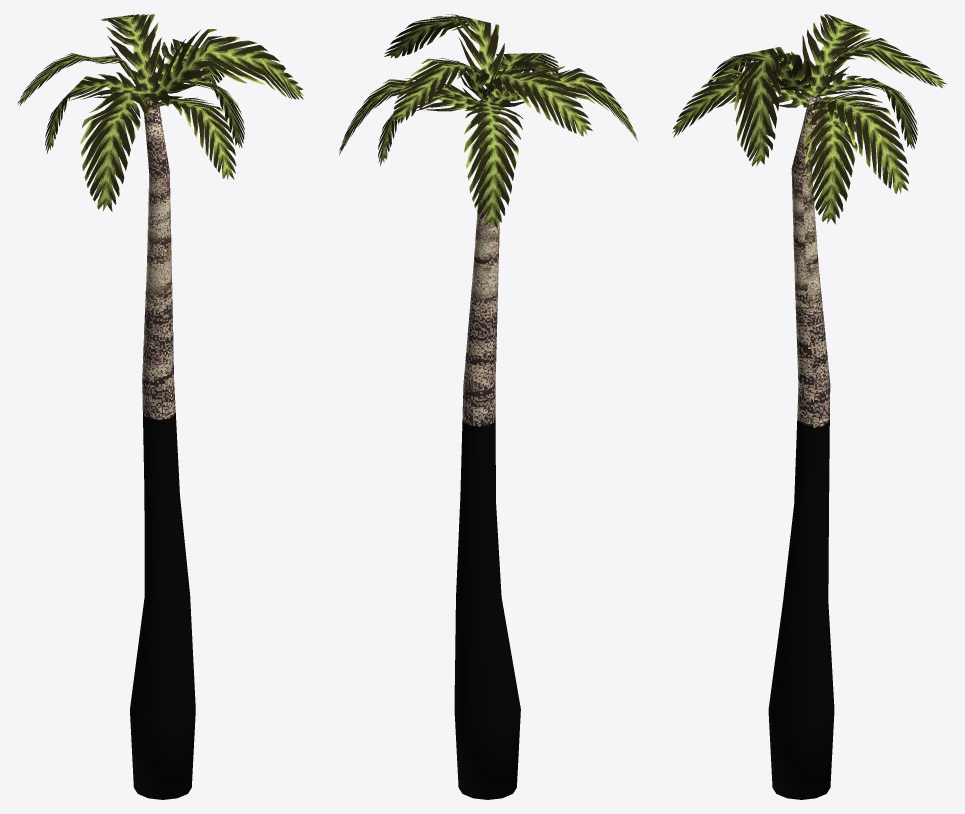
Rendered from Palm_sm.fbx.
3 renders of one model, left to right at view 1: azimuth 30°, elevation 25°; view 2: azimuth 150°, elevation 25°; view 3: azimuth 270°, elevation 25°, orthographic.
Parts seen in each view (by area): view 1: Palm_sm, PalmLeaf.018, PalmLeaf.021, PalmLeaf.019, PalmLeaf.022, PalmLeaf.025, PalmLeaf.024, PalmLeaf.023, PalmLeaf.020; view 2: Palm_sm, PalmLeaf.025, PalmLeaf.018, PalmLeaf.024, PalmLeaf.019, PalmLeaf.021, PalmLeaf.020, PalmLeaf.023, PalmLeaf.022; view 3: Palm_sm, PalmLeaf.018, PalmLeaf.020, PalmLeaf.023, PalmLeaf.024, PalmLeaf.022, PalmLeaf.019, PalmLeaf.025, PalmLeaf.021.
Boxes of the visible parts, x1,y1,x2,y2 form: Palm_sm: (130, 99, 195, 799); PalmLeaf.018: (147, 29, 303, 99); PalmLeaf.021: (80, 91, 162, 211); PalmLeaf.019: (101, 14, 165, 93); PalmLeaf.022: (148, 97, 236, 179); PalmLeaf.025: (45, 72, 145, 154); PalmLeaf.024: (17, 53, 149, 106); PalmLeaf.023: (185, 77, 244, 147); PalmLeaf.020: (153, 39, 226, 84); Palm_sm: (454, 99, 520, 799); PalmLeaf.025: (464, 100, 522, 228); PalmLeaf.018: (384, 14, 507, 97); PalmLeaf.024: (483, 58, 592, 136); PalmLeaf.019: (393, 58, 493, 123); PalmLeaf.021: (491, 59, 637, 141); PalmLeaf.020: (339, 78, 479, 155); PalmLeaf.023: (378, 85, 481, 165); PalmLeaf.022: (481, 53, 558, 110); Palm_sm: (768, 95, 834, 799); PalmLeaf.018: (731, 53, 811, 166); PalmLeaf.020: (813, 89, 908, 193); PalmLeaf.023: (803, 96, 857, 224); PalmLeaf.024: (802, 14, 869, 92); PalmLeaf.022: (672, 69, 808, 137); PalmLeaf.019: (816, 37, 946, 97); PalmLeaf.025: (813, 72, 917, 149); PalmLeaf.021: (708, 47, 819, 98).
Bounding box in the file's own units: 250 × 719 × 243.
